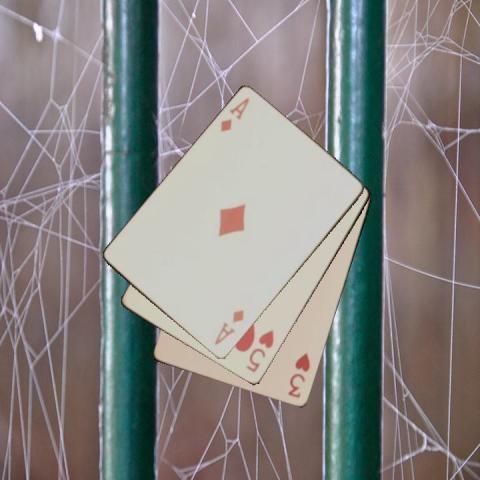3h: (285, 350, 312, 399)
5h: (243, 327, 276, 374)
Ad: (212, 307, 246, 347), (218, 95, 252, 134)
